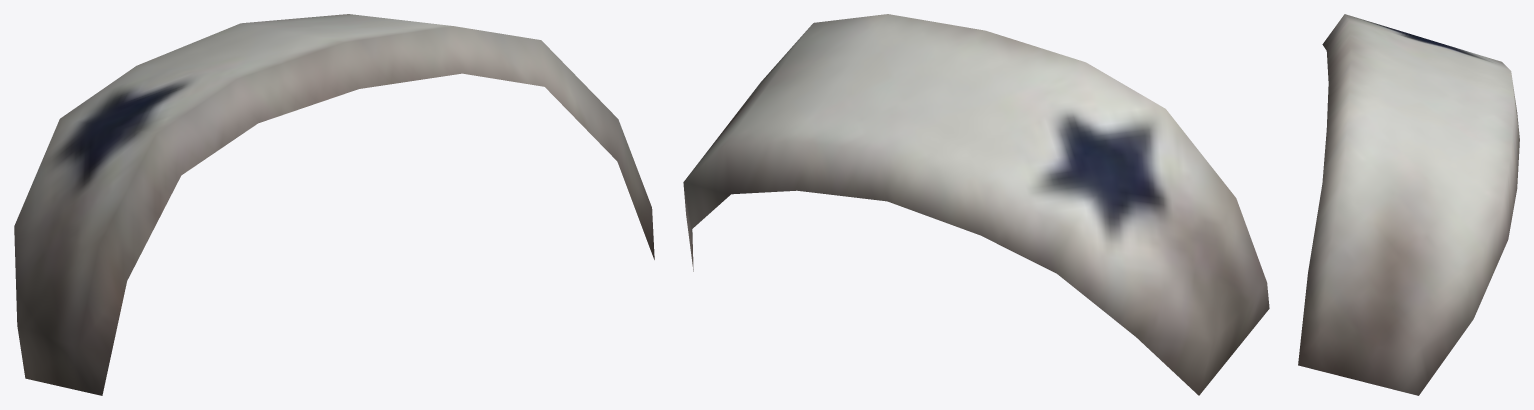
File: sportBand.glb
3 renders of one model, left to right at view 1: azimuth 30°, elevation 25°; view 2: azimuth 150°, elevation 25°; view 3: azimuth 270°, elevation 25°, orthographic. The views are drawn at different scales.
Visible parts, largest first — view 1: sportBand; view 2: sportBand; view 3: sportBand.
Part boxes in pixels (bbox=[...]): sportBand: bbox=[14, 14, 654, 395]; sportBand: bbox=[683, 14, 1269, 395]; sportBand: bbox=[1298, 14, 1519, 395].
Bounding box in the file's own units: 0.5128 × 0.2564 × 0.2191.
1 material, 1 textured.
